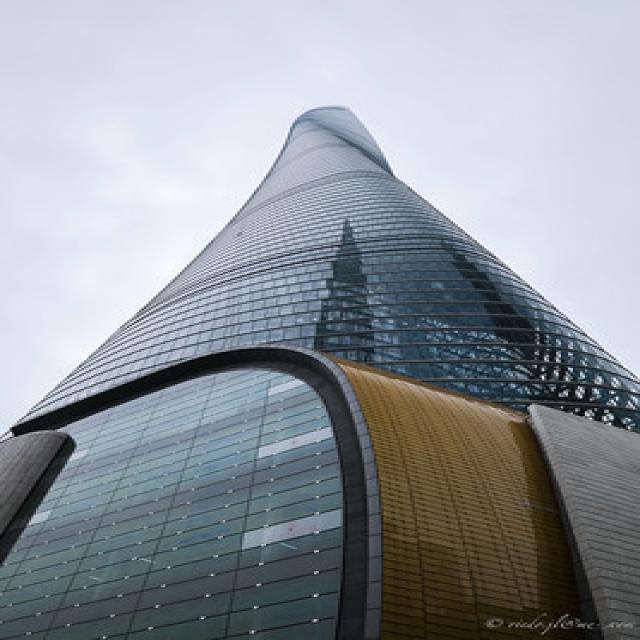building: (12, 101, 640, 640)
